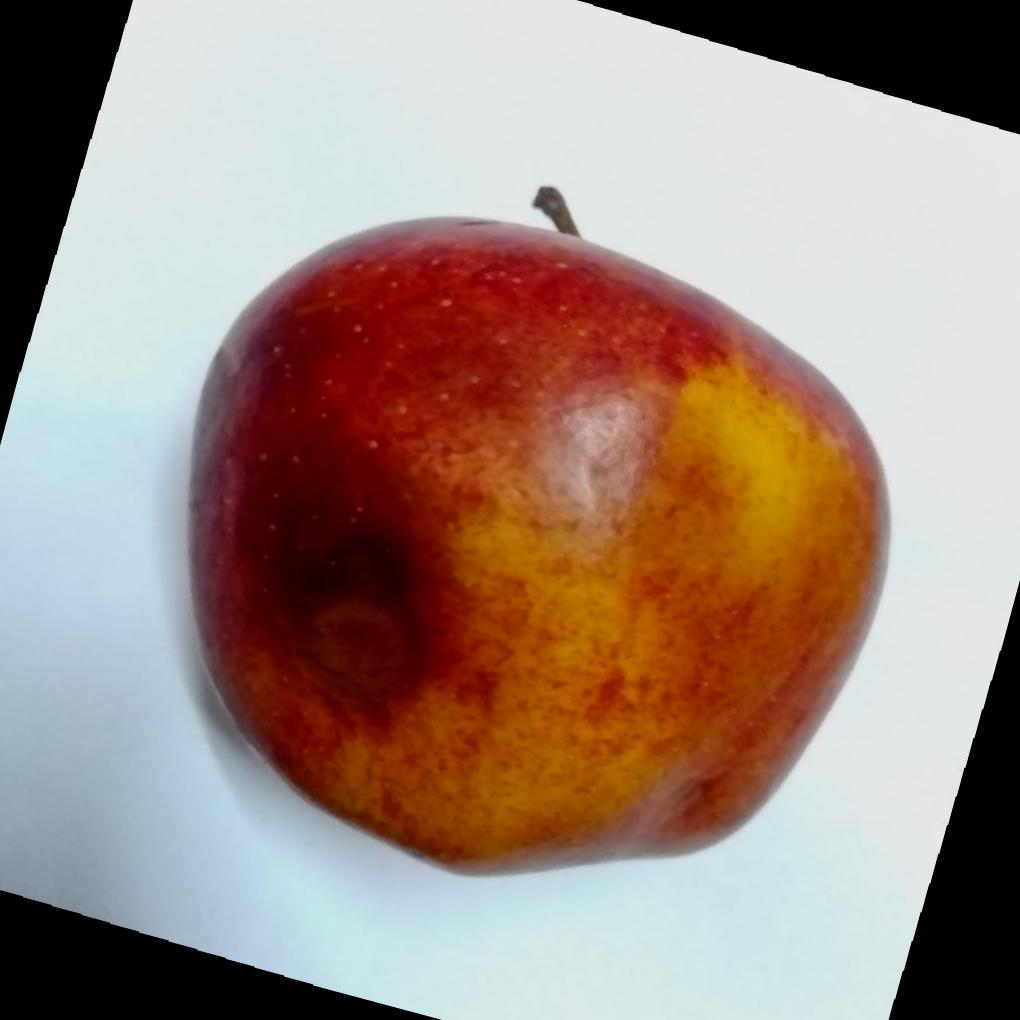FreshOrange: (183, 217, 890, 879)
